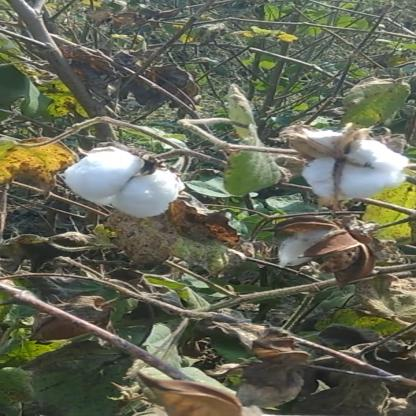cotton_ready: (52, 138, 218, 235), (273, 120, 402, 217)
